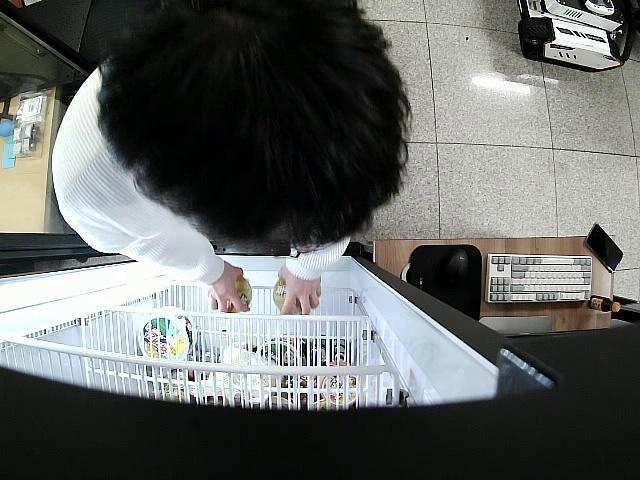04_chapagetti_S: (226, 274, 256, 314), (272, 281, 302, 314)
